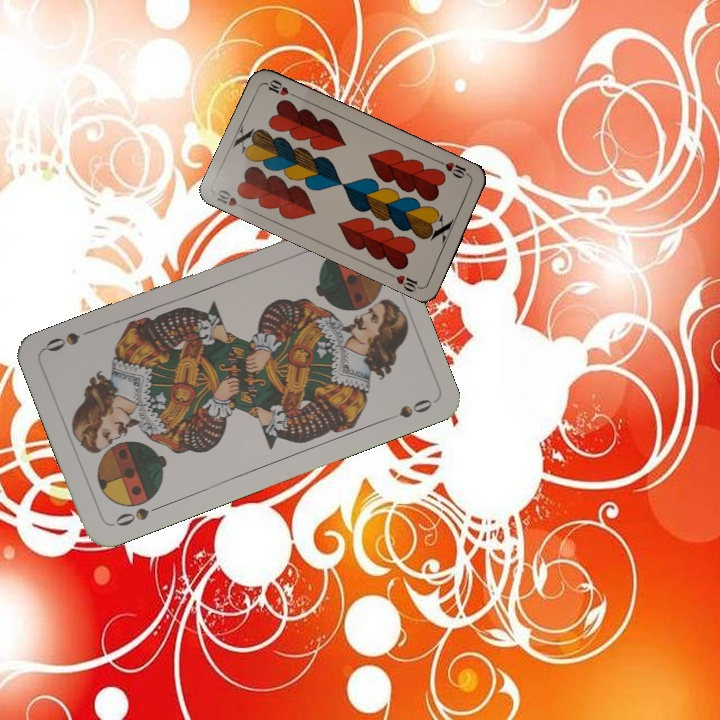H10: (212, 185, 250, 213), (435, 157, 473, 181)
SO: (107, 501, 165, 529)
